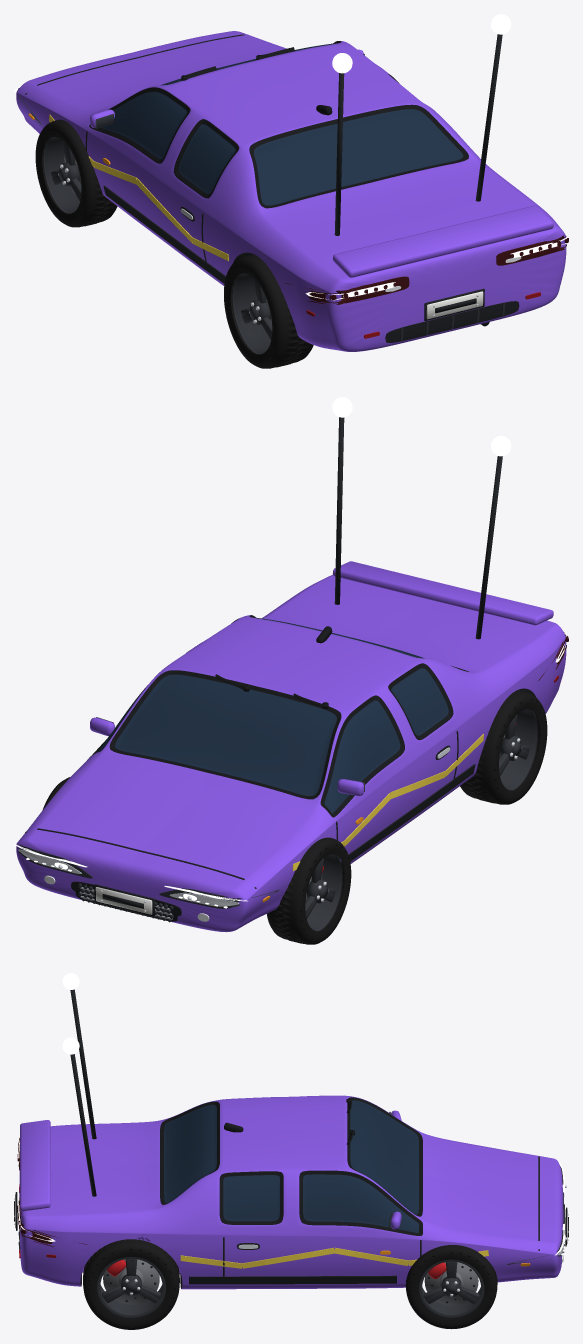
Rendered from volt.glb.
The picture shows the model from 3 angles, top to bottom: view 1: azimuth 30°, elevation 25°; view 2: azimuth 150°, elevation 25°; view 3: azimuth 270°, elevation 25°; orthographic projection. The views are drawn at different scales.
Parts seen in each view (by area): view 1: Body, Wheel_RL, Wheel_FL; view 2: Body, Wheel_RL, Wheel_FL; view 3: Body, Wheel_RR, Wheel_FR.
Boxes of the visible parts, x1,y1,x2,y2 form: Body: (14,14,568,351); Wheel_RL: (224,254,313,368); Wheel_FL: (35,119,117,227); Body: (14,397,568,932); Wheel_RL: (460,690,547,804); Wheel_FL: (267,837,351,944); Body: (14,973,568,1289); Wheel_RR: (83,1239,179,1329); Wheel_FR: (405,1245,497,1329).
Size of what is drawn, in the model's own units: 2.13 by 2.43 by 4.51.
